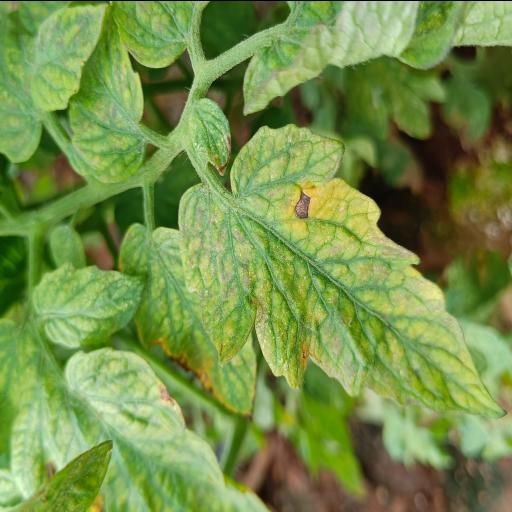Early Blight: (177, 121, 512, 416)
